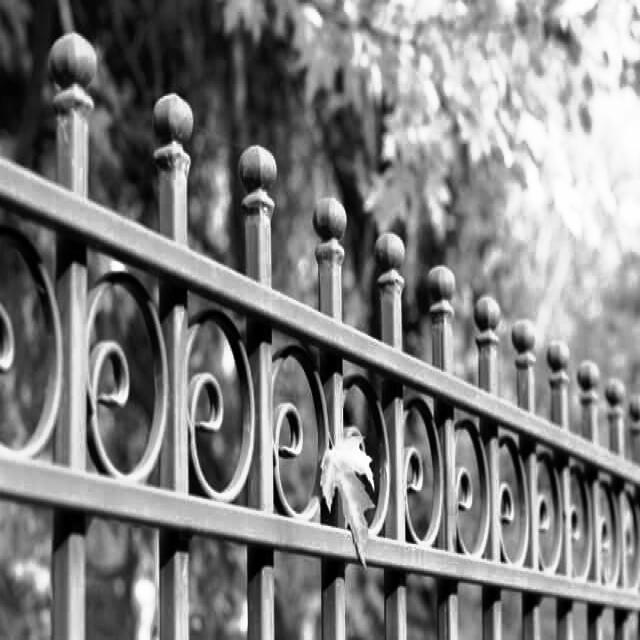fences: (27, 179, 640, 625)
